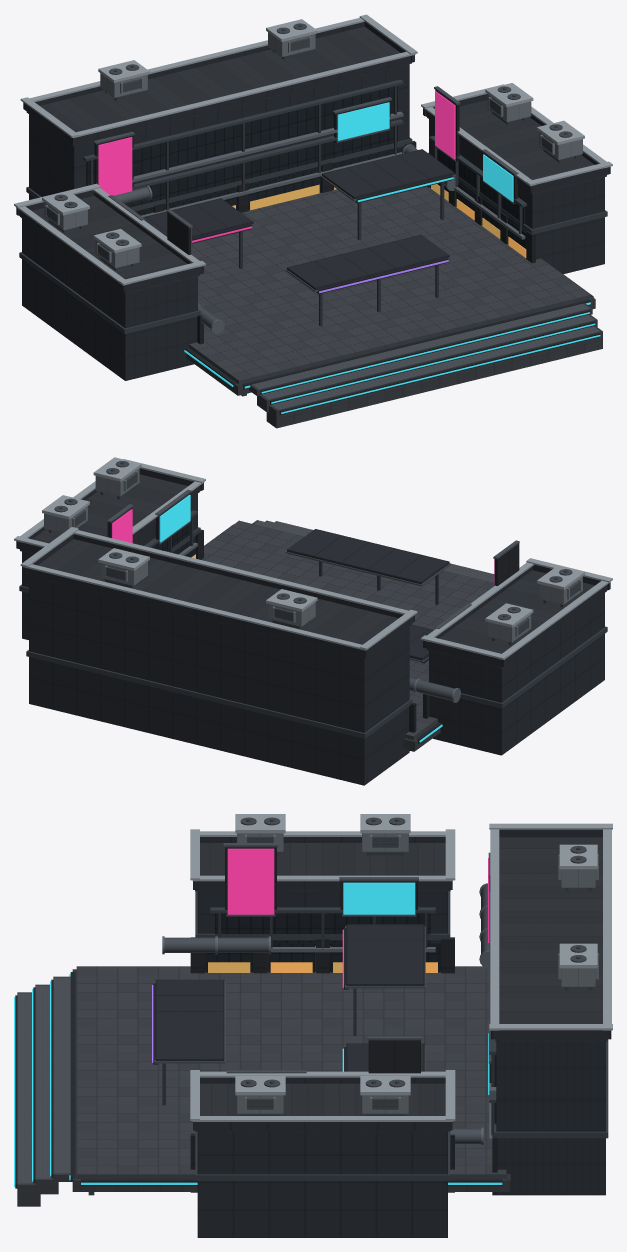
The model's file is trg-1-built.glb.
3 renders of one model, top to bottom at view 1: azimuth 30°, elevation 25°; view 2: azimuth 150°, elevation 25°; view 3: azimuth 270°, elevation 25°, orthographic. The views are drawn at different scales.
Bounding box in the file's own units: 43.8 × 14.65 × 38.3.
35 materials, 23 textured.
